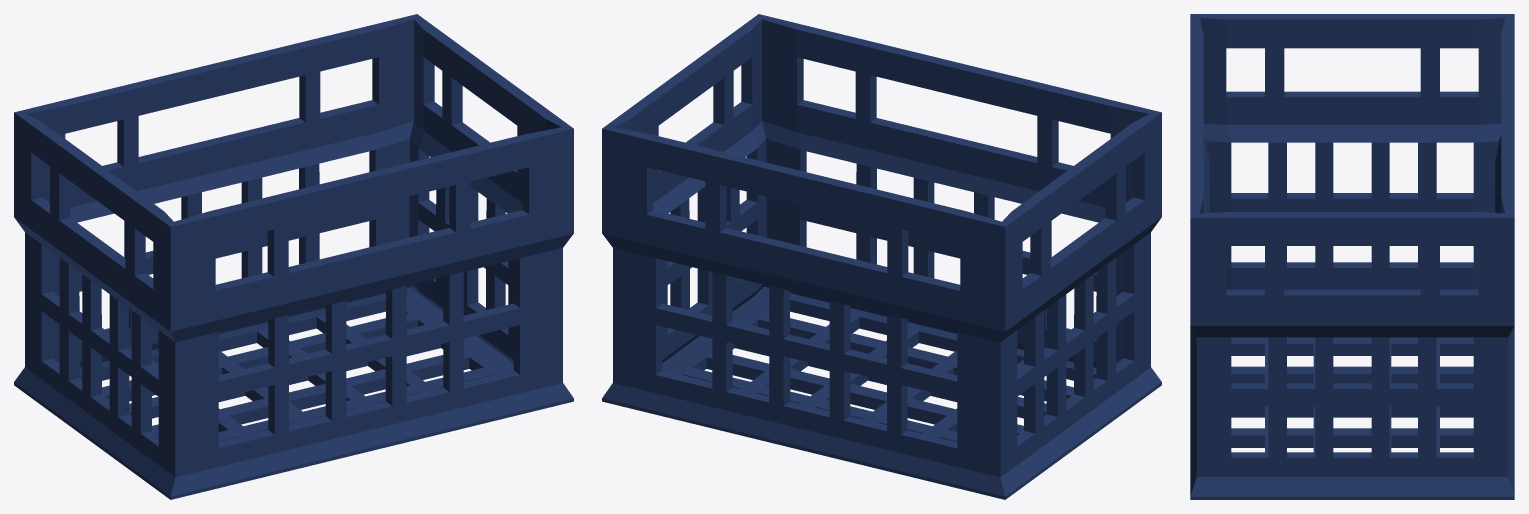
Rendered from Crate.fbx.
3 renders of one model, left to right at view 1: azimuth 30°, elevation 25°; view 2: azimuth 150°, elevation 25°; view 3: azimuth 270°, elevation 25°, orthographic. The views are drawn at different scales.
Visible parts, largest first — view 1: Crate; view 2: Crate; view 3: Crate.
Boxes of the visible parts, left/top/right/bottom form: Crate: left=14, top=14, right=573, bottom=499; Crate: left=602, top=14, right=1161, bottom=499; Crate: left=1190, top=14, right=1514, bottom=499.
Bounding box in the file's own units: 253 × 163 × 170.
